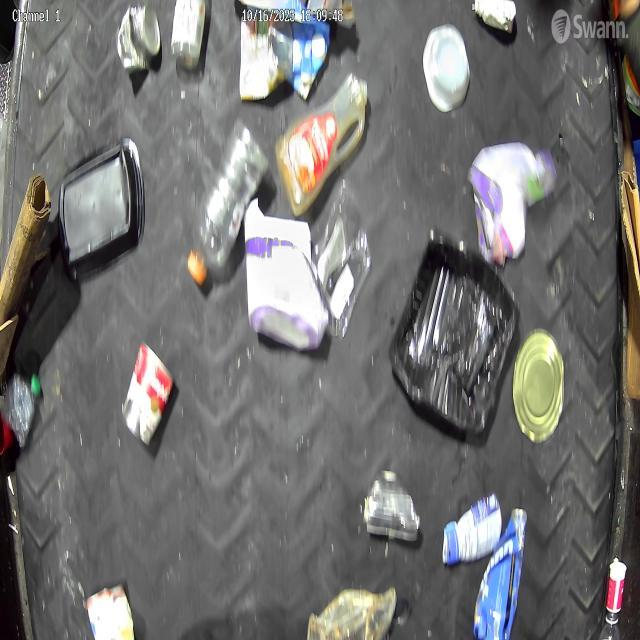can: (513, 330, 565, 443), (121, 340, 175, 447), (240, 13, 294, 101), (363, 470, 422, 544), (115, 4, 161, 74), (86, 584, 135, 640)
non_white_jug: (275, 72, 369, 218), (244, 196, 328, 351), (468, 140, 558, 268), (472, 508, 528, 640), (266, 0, 331, 100)
plastic_bottle: (188, 119, 270, 288), (0, 369, 41, 447)
